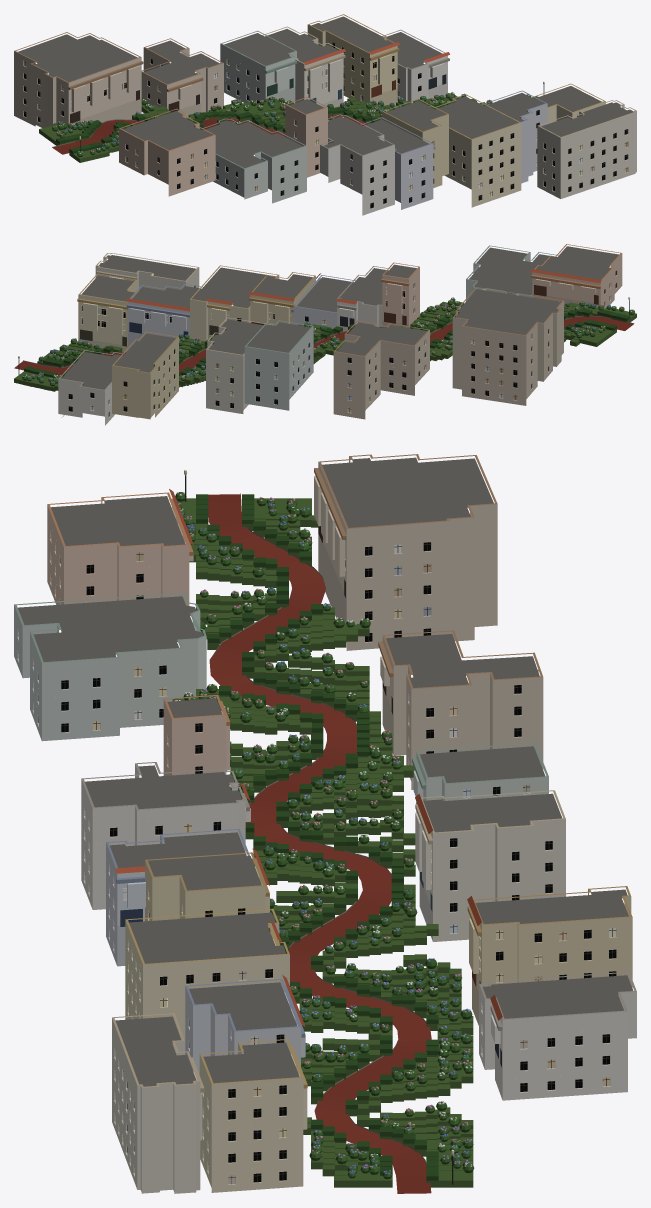
The model's file is lombard_lod0.glb.
3 views of the same model, one above another, from view 1: azimuth 30°, elevation 25°; view 2: azimuth 150°, elevation 25°; view 3: azimuth 270°, elevation 25° (orthographic). The views are drawn at different scales.
Parts seen in each view (by area): view 1: L0_stucco, L0_roof, L0_leaf, L0_win, L0_grass, L0_metal, L0_brickred, L0_paint, L0_wood, L0_rooftile; view 2: L0_stucco, L0_roof, L0_leaf, L0_grass, L0_win, L0_brickred, L0_paint, L0_rooftile, L0_metal, L0_wood; view 3: L0_stucco, L0_roof, L0_grass, L0_leaf, L0_brickred, L0_win, L0_paint, L0_metal, L0_rooftile, L0_granite.
Boxes of the visible parts, x1,y1,x2,y2 form: L0_stucco: (14, 14, 636, 215); L0_roof: (18, 16, 633, 168); L0_leaf: (52, 92, 531, 157); L0_win: (24, 42, 627, 208); L0_grass: (39, 95, 537, 162); L0_metal: (24, 43, 627, 207); L0_brickred: (52, 115, 521, 154); L0_paint: (53, 74, 530, 153); L0_wood: (70, 77, 436, 123); L0_rooftile: (304, 42, 449, 65); L0_stucco: (58, 244, 622, 425); L0_roof: (61, 246, 618, 389); L0_leaf: (22, 298, 634, 386); L0_grass: (14, 300, 636, 391); L0_win: (68, 271, 616, 416); L0_brickred: (14, 316, 633, 375); L0_paint: (23, 295, 633, 382); L0_rooftile: (126, 269, 601, 311); L0_metal: (18, 271, 629, 416); L0_wood: (80, 285, 546, 340); L0_stucco: (14, 454, 636, 1193); L0_roof: (18, 457, 633, 1086); L0_grass: (172, 498, 473, 1187); L0_leaf: (175, 492, 474, 1180); L0_brickred: (208, 494, 431, 1193); L0_win: (38, 542, 616, 1184); L0_paint: (174, 492, 501, 1174); L0_metal: (18, 475, 616, 1184); L0_rooftile: (115, 489, 502, 1026); L0_granite: (209, 493, 431, 1191).
Size of the model in its own units: 145 by 44.67 by 81.13.
